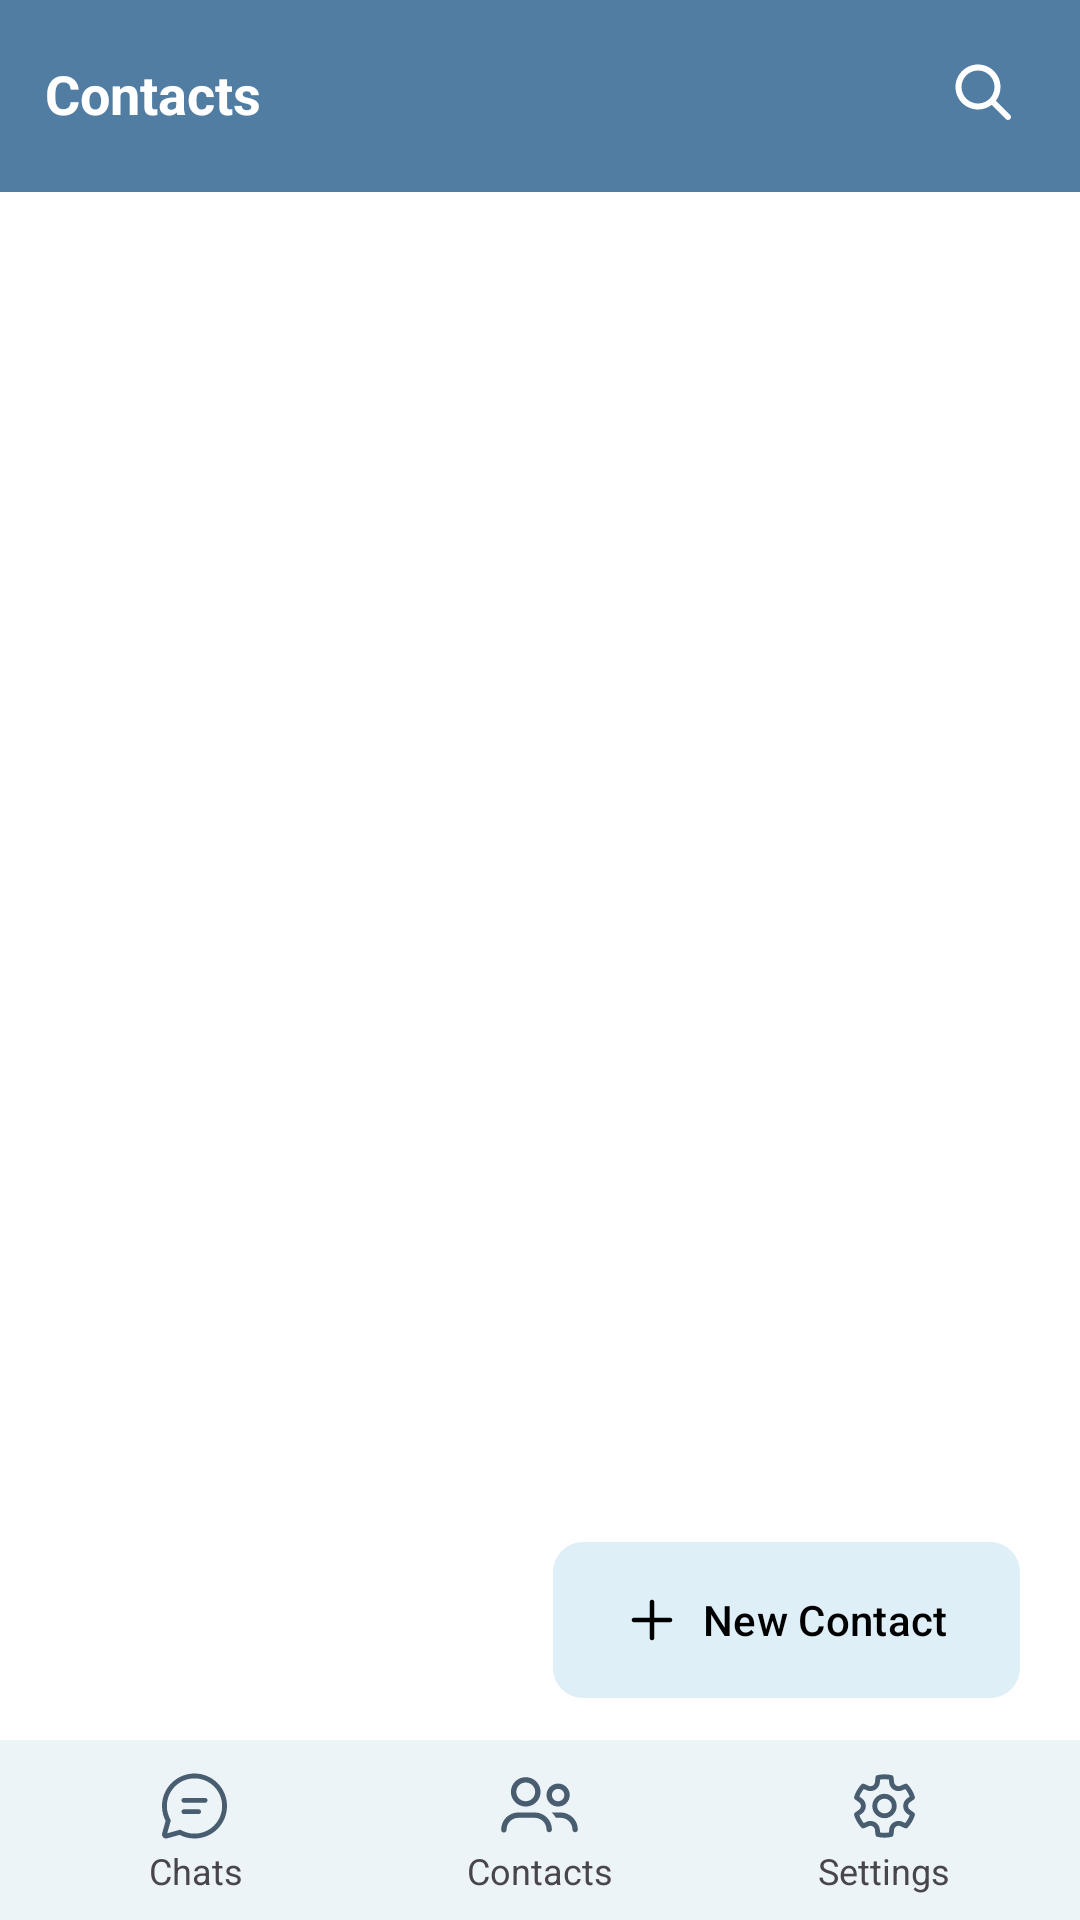

Screen size 1080w x 1920h. Icon name, then its center in pixels as (x=x, y=y):
search: (x=983, y=92)
users: (x=539, y=1805)
